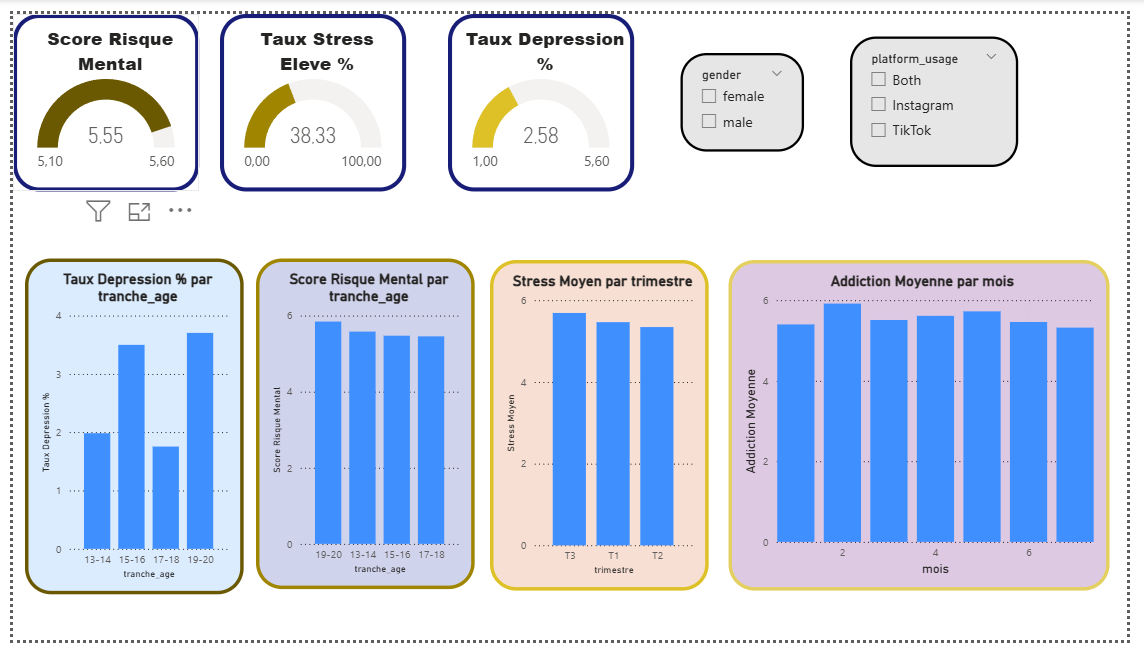

What the dashboard file says about the page in this screenshot:
{"tool":"powerbi","page":{"name":"Âge et temporalité","canvas":[1280,720],"ordinal":3},"visuals":[{"type":"gauge","fields":{"Y":["public fait_sante_mentale.Score Risque Mental"]},"box":[0,0,214.3,204.3],"z":0},{"type":"gauge","fields":{"Y":["public fait_sante_mentale.Taux Stress Eleve %"]},"box":[238.6,0,214.3,204.3],"z":1000},{"type":"gauge","fields":{"Y":["public fait_sante_mentale.Taux Depression %"]},"box":[500,0,214.3,204.3],"z":2000},{"type":"clusteredColumnChart","fields":{"Category":["public dim_age.tranche_age"],"Y":["public fait_sante_mentale.Taux Depression %"]},"box":[14.3,281.4,251.4,385.7],"z":3000},{"type":"clusteredColumnChart","fields":{"Category":["public dim_age.tranche_age"],"Y":["public fait_sante_mentale.Score Risque Mental"]},"box":[278.6,281.4,251.4,380],"z":4000},{"type":"clusteredColumnChart","fields":{"Category":["public dim_temps.trimestre"],"Y":["public fait_sante_mentale.Stress Moyen"]},"box":[548.9,282.2,251.1,380],"z":5000},{"type":"lineStackedColumnComboChart","fields":{"Category":["public dim_temps.mois"],"Y":["public fait_sante_mentale.Addiction Moyenne"]},"box":[822.2,282.2,437.8,380],"z":6000},{"type":"slicer","fields":{"Values":["public dim_gender.gender"]},"box":[766.7,45,141.7,113.3],"z":7000},{"type":"slicer","fields":{"Values":["public dim_platform.platform_usage"]},"box":[961.7,26.7,193.3,150],"z":8000}]}

Visuals, with their boxes in screenshot pixels (x1, y1, x2, y2), scaled from the page's 1280x720 canvas onto the 1144x655 screenshot:
gauge - public fait_sante_mentale.Score Risque Mental: bbox=[0, 0, 192, 186]
gauge - public fait_sante_mentale.Taux Stress Eleve %: bbox=[213, 0, 405, 186]
gauge - public fait_sante_mentale.Taux Depression %: bbox=[447, 0, 638, 186]
clusteredColumnChart - public dim_age.tranche_age x public fait_sante_mentale.Taux Depression %: bbox=[13, 256, 237, 607]
clusteredColumnChart - public dim_age.tranche_age x public fait_sante_mentale.Score Risque Mental: bbox=[249, 256, 474, 602]
clusteredColumnChart - public dim_temps.trimestre x public fait_sante_mentale.Stress Moyen: bbox=[491, 257, 715, 602]
lineStackedColumnComboChart - public dim_temps.mois x public fait_sante_mentale.Addiction Moyenne: bbox=[735, 257, 1126, 602]
slicer - public dim_gender.gender: bbox=[685, 41, 812, 144]
slicer - public dim_platform.platform_usage: bbox=[860, 24, 1032, 161]
